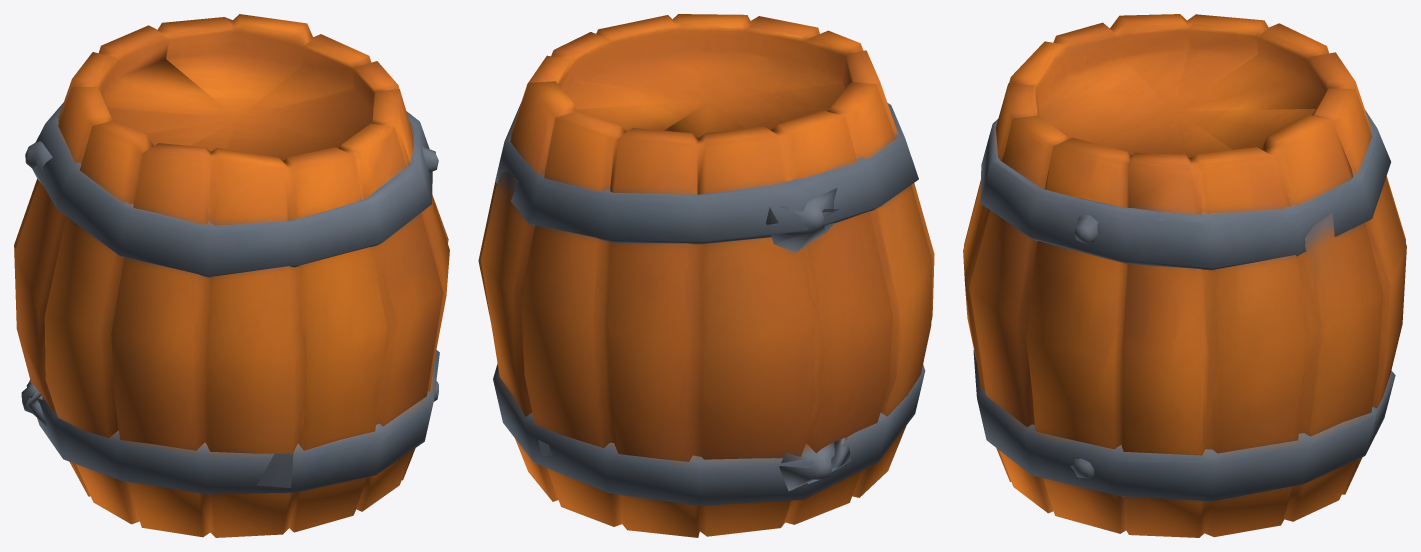
3 views of the same model, side by side, from view 1: azimuth 30°, elevation 25°; view 2: azimuth 150°, elevation 25°; view 3: azimuth 270°, elevation 25° (orthographic). The views are drawn at different scales.
Parts seen in each view (by area): view 1: tripo_node_15832c87-b1ff-4dfe-a45f-9428d3ab0618; view 2: tripo_node_15832c87-b1ff-4dfe-a45f-9428d3ab0618; view 3: tripo_node_15832c87-b1ff-4dfe-a45f-9428d3ab0618.
Part boxes in pixels (left/top/right/bottom): tripo_node_15832c87-b1ff-4dfe-a45f-9428d3ab0618: left=14, top=14, right=449, bottom=537; tripo_node_15832c87-b1ff-4dfe-a45f-9428d3ab0618: left=478, top=14, right=934, bottom=537; tripo_node_15832c87-b1ff-4dfe-a45f-9428d3ab0618: left=963, top=14, right=1406, bottom=537.
Bounding box in the file's own units: 0.998 × 0.9629 × 0.998.
Materials: 1 (1 with a texture image).
